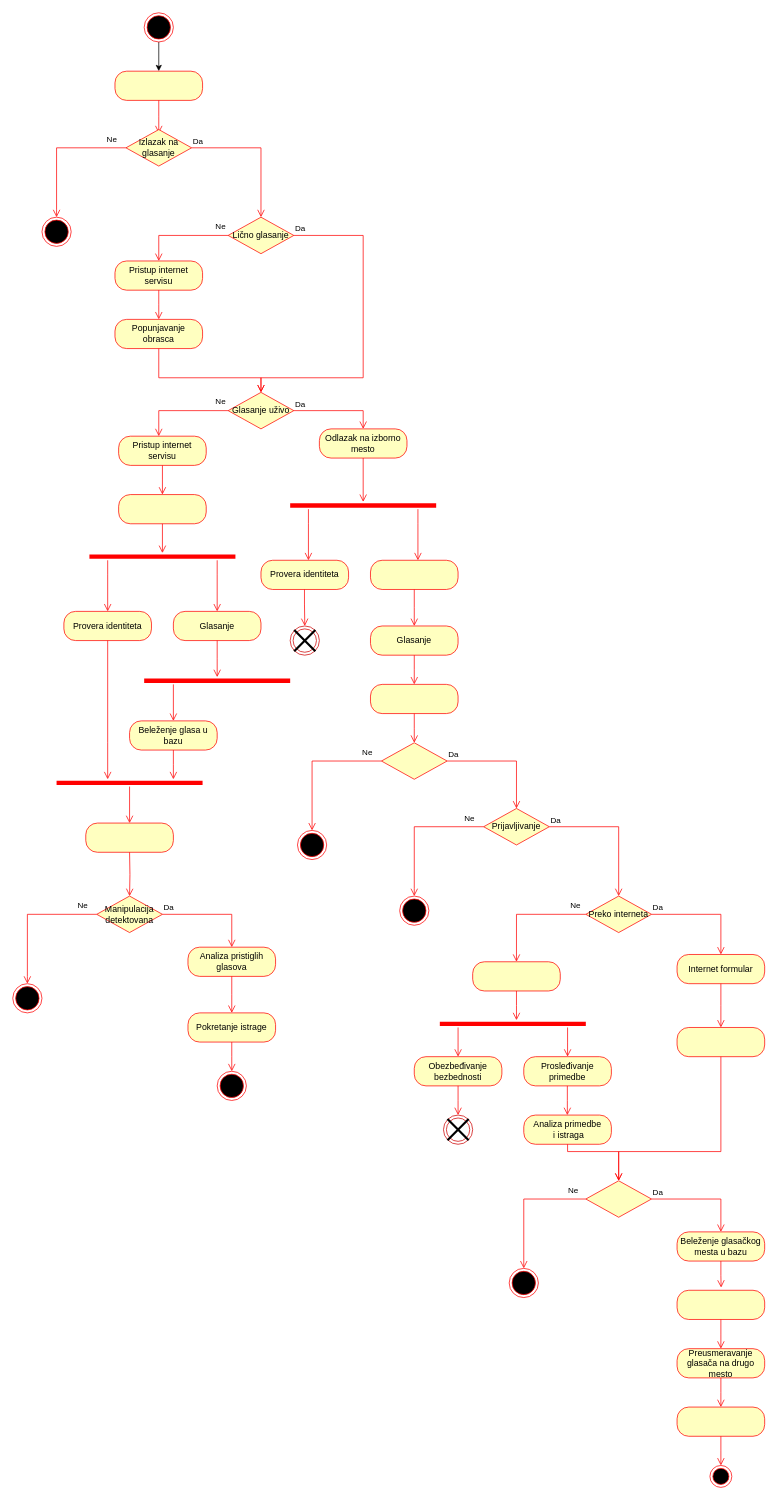
The diagram is 777 pixels wide and 1500 high, and some of its shapes have lost their labels. The box of each missing label's shape, as (x1, y1, x2, y2) in pixels:
Anuliranje glasova sa glasačkog mesta: (676, 1290, 765, 1319)
Detekcija manipulacije: (85, 822, 173, 852)
Izborna lista: (370, 560, 458, 589)
Nepravilnost: (381, 742, 447, 779)
Pamćenje primedbe u bazu: (676, 1027, 765, 1057)
Pisanje pismene žalbe: (472, 961, 560, 991)
Prijem obaveštenja: (114, 70, 203, 100)
Primedba uvažena: (585, 1180, 652, 1217)
Ubacivanje papirića: (370, 684, 458, 714)
Unos traženih podataka: (118, 494, 206, 524)
Zatvaranje glasačkog mesta: (676, 1406, 765, 1436)
